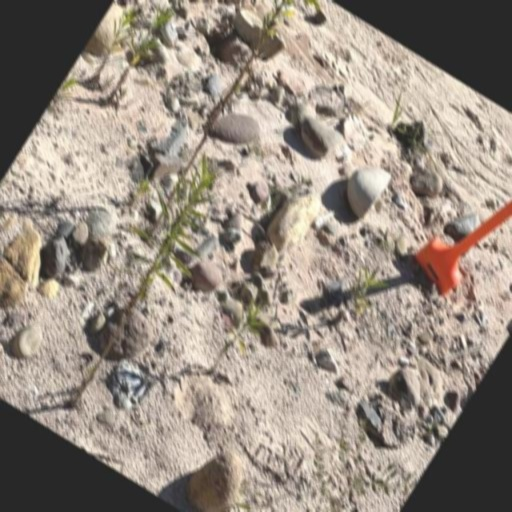mallet: (401, 123, 512, 318)
